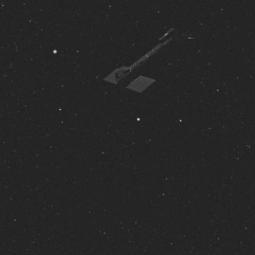xmm_newton: (91, 16, 185, 103)
